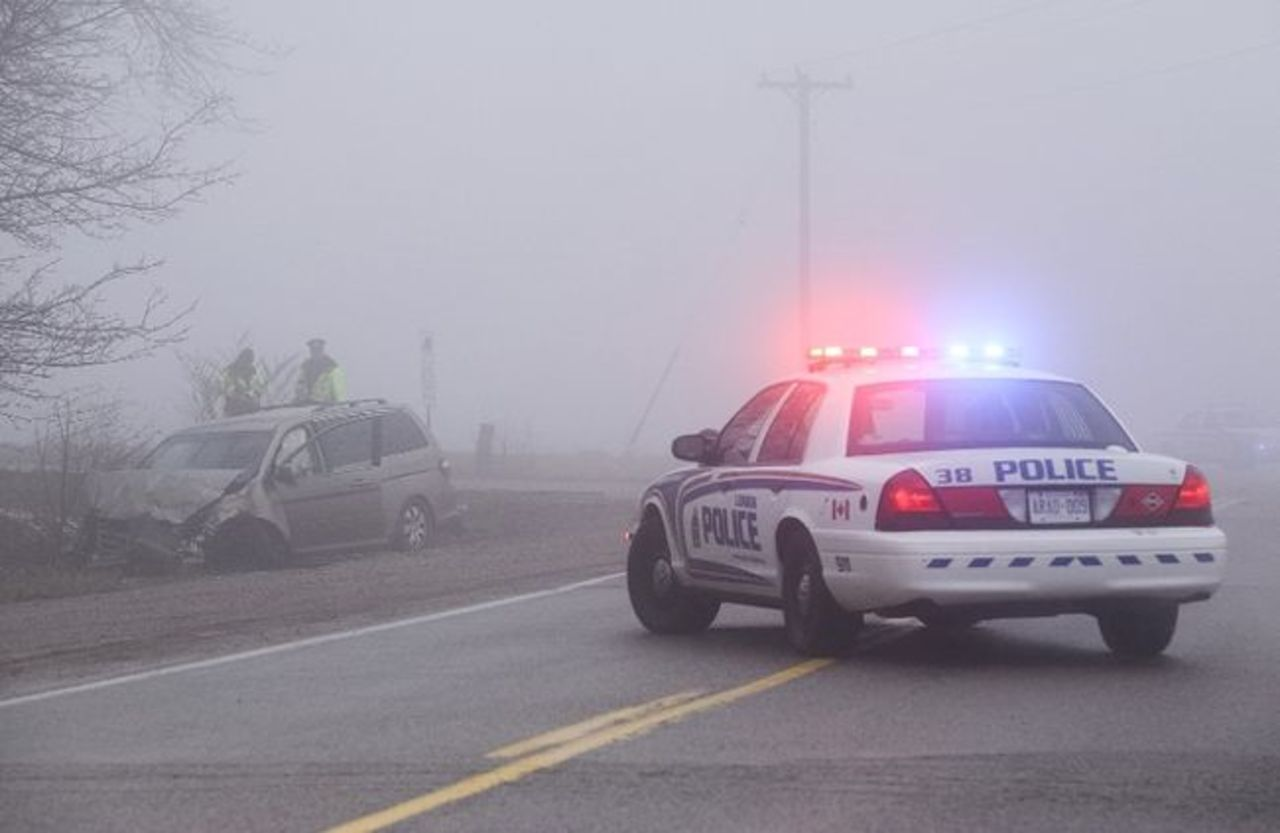car: (617, 361, 1242, 658), (113, 403, 467, 572)
person: (284, 337, 346, 405), (219, 344, 268, 418)
